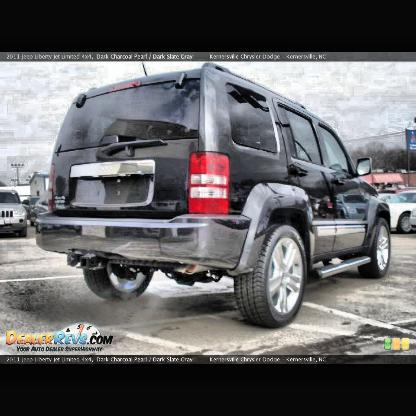Jeep Liberty SUV 2012: (38, 63, 393, 332)
